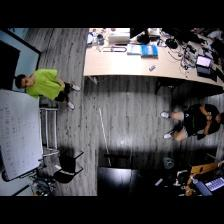normal: (14, 70, 80, 110), (161, 103, 224, 142)
